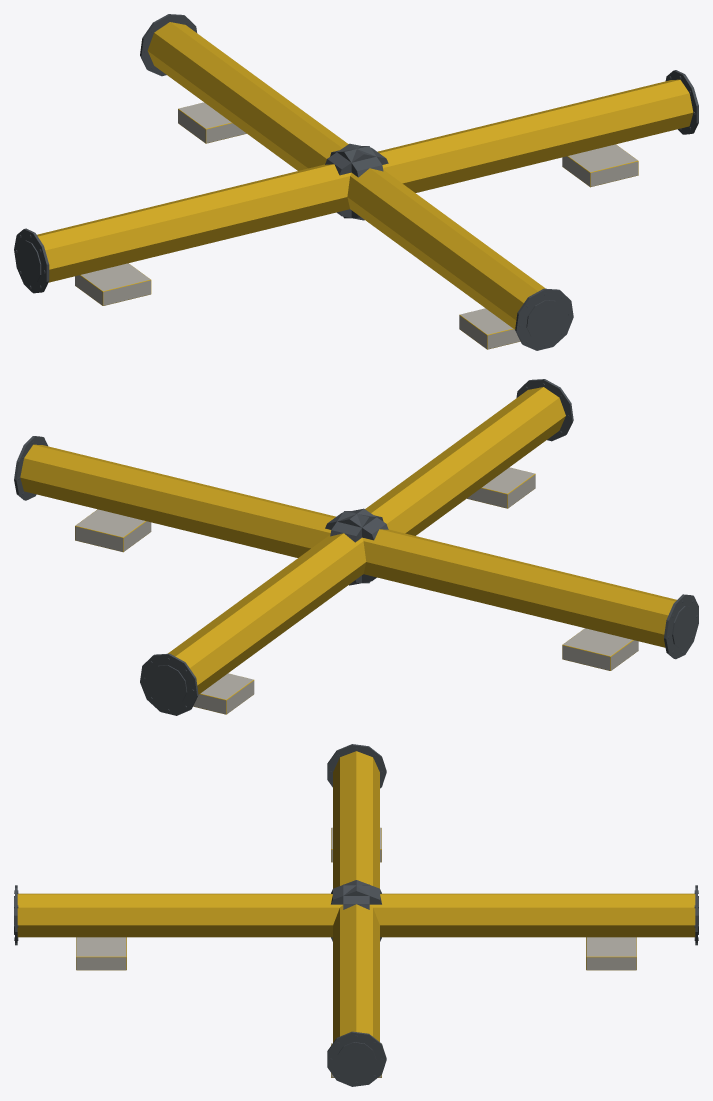
Rendered from gam_pipe_cross.glb.
3 views of the same model, one above another, from view 1: azimuth 30°, elevation 25°; view 2: azimuth 150°, elevation 25°; view 3: azimuth 270°, elevation 25° (orthographic). The views are drawn at different scales.
Parts seen in each view (by area): view 1: gam_pipe_cross; view 2: gam_pipe_cross; view 3: gam_pipe_cross.
Boxes of the visible parts, x1,y1,x2,y2 form: gam_pipe_cross: (14,14,698,350); gam_pipe_cross: (14,379,698,715); gam_pipe_cross: (14,744,698,1086).
Size of the model in its own units: 16.11 by 1.92 by 16.11.
